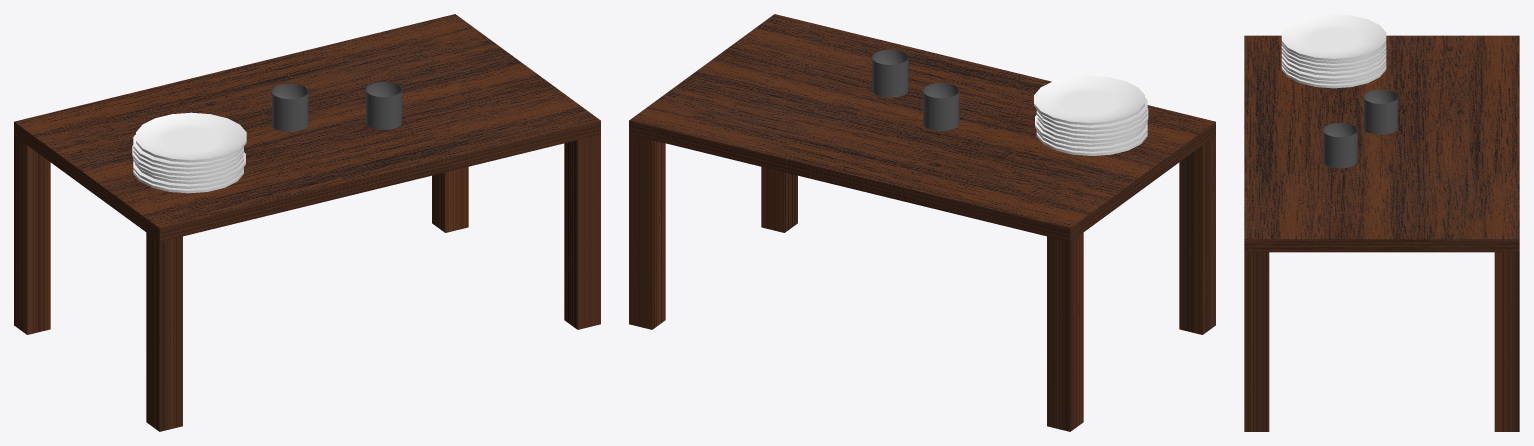
File: Table.FBX
The picture shows the model from 3 angles, left to right: view 1: azimuth 30°, elevation 25°; view 2: azimuth 150°, elevation 25°; view 3: azimuth 270°, elevation 25°; orthographic projection. The views are drawn at different scales.
Visible parts, largest first — view 1: Box001, Cylinder007, Cylinder009, Cylinder010, Cylinder005, Cylinder002, Cylinder006, Cylinder008; view 2: Box001, Cylinder007, Cylinder010, Cylinder009, Cylinder005, Cylinder002, Cylinder006, Cylinder008, Cylinder001; view 3: Box001, Cylinder007, Cylinder009, Cylinder010, Cylinder004, Cylinder003, Cylinder008, Cylinder001, Cylinder006, Cylinder002, Cylinder005.
Part boxes in pixels (left/top/right/bottom): Box001: left=14, top=14, right=600, bottom=431; Cylinder007: left=136, top=112, right=246, bottom=162; Cylinder009: left=272, top=84, right=308, bottom=131; Cylinder010: left=365, top=82, right=401, bottom=129; Cylinder005: left=133, top=134, right=243, bottom=167; Cylinder002: left=133, top=161, right=243, bottom=188; Cylinder006: left=132, top=145, right=243, bottom=176; Cylinder008: left=133, top=148, right=243, bottom=171; Box001: left=629, top=14, right=1215, bottom=431; Cylinder007: left=1034, top=75, right=1144, bottom=125; Cylinder010: left=872, top=49, right=908, bottom=97; Cylinder009: left=923, top=83, right=959, bottom=131; Cylinder005: left=1036, top=97, right=1147, bottom=130; Cylinder002: left=1036, top=124, right=1147, bottom=151; Cylinder006: left=1037, top=108, right=1148, bottom=139; Cylinder008: left=1036, top=111, right=1147, bottom=134; Cylinder001: left=1036, top=132, right=1147, bottom=155; Box001: left=1244, top=35, right=1519, bottom=431; Cylinder007: left=1281, top=14, right=1386, bottom=61; Cylinder009: left=1363, top=89, right=1397, bottom=134; Cylinder010: left=1323, top=123, right=1357, bottom=168; Cylinder004: left=1281, top=58, right=1386, bottom=80; Cylinder003: left=1281, top=53, right=1386, bottom=76; Cylinder008: left=1281, top=46, right=1386, bottom=67; Cylinder001: left=1281, top=66, right=1386, bottom=88; Cylinder006: left=1281, top=50, right=1386, bottom=71; Cylinder002: left=1281, top=63, right=1386, bottom=84; Cylinder005: left=1281, top=43, right=1386, bottom=63.
Size of the model in its own units: 112 by 58.45 by 63.87.
3 materials, 1 textured.
